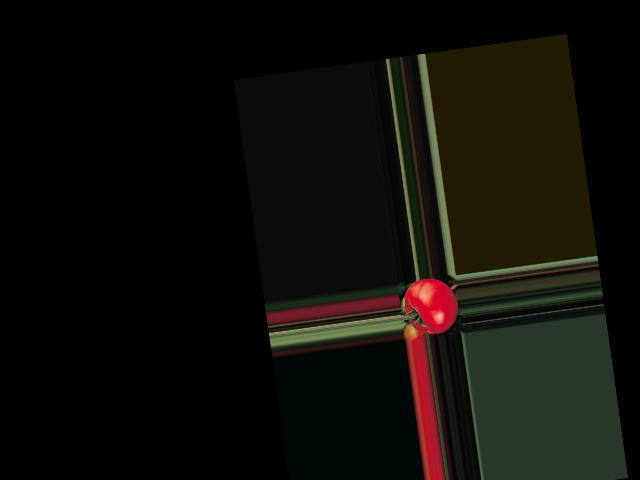tomato: (402, 274, 461, 336)
